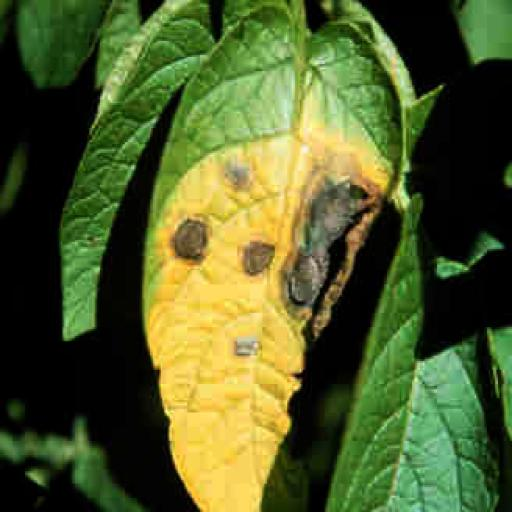disease_tomato: (138, 7, 406, 512)
